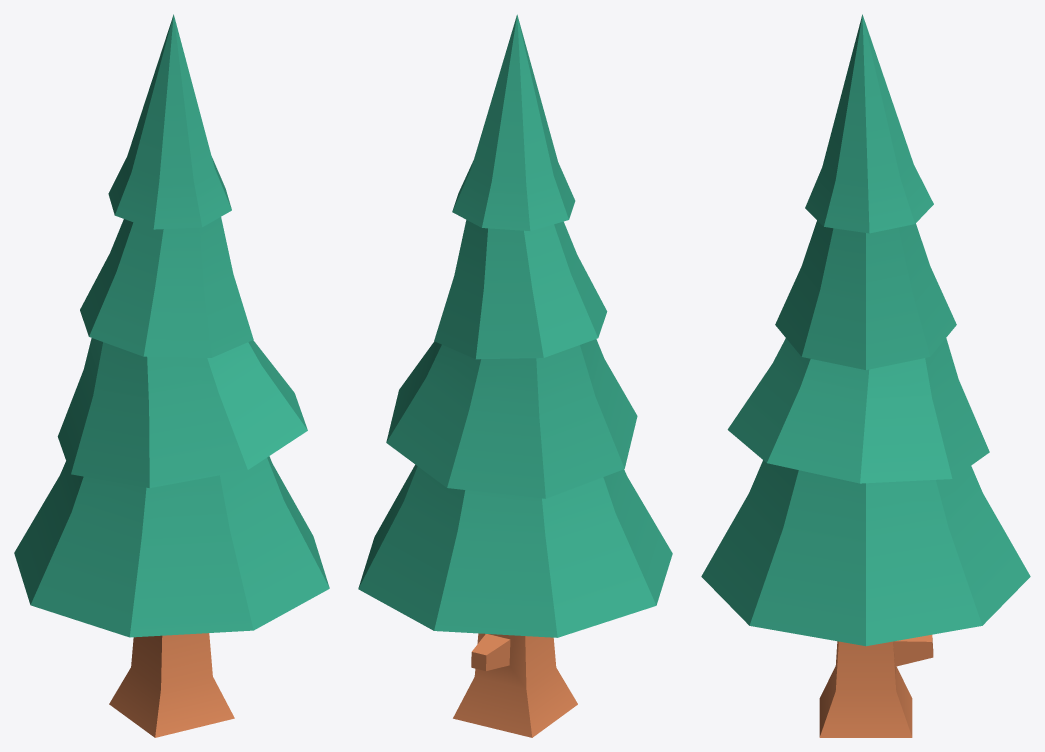
The model's file is d_kenney_arbre_tordu.glb.
The picture shows the model from 3 angles, left to right: view 1: azimuth 30°, elevation 25°; view 2: azimuth 150°, elevation 25°; view 3: azimuth 270°, elevation 25°; orthographic projection.
Parts seen in each view (by area): view 1: d_kenney_arbre_tordu; view 2: d_kenney_arbre_tordu; view 3: d_kenney_arbre_tordu.
Part boxes in pixels (x1=…): d_kenney_arbre_tordu: x1=14, y1=14, x2=329, y2=737; d_kenney_arbre_tordu: x1=358, y1=14, x2=672, y2=737; d_kenney_arbre_tordu: x1=701, y1=14, x2=1030, y2=737.
Bounding box in the file's own units: 1.02 × 2.41 × 1.02.
Materials: 1 (1 with a texture image).
